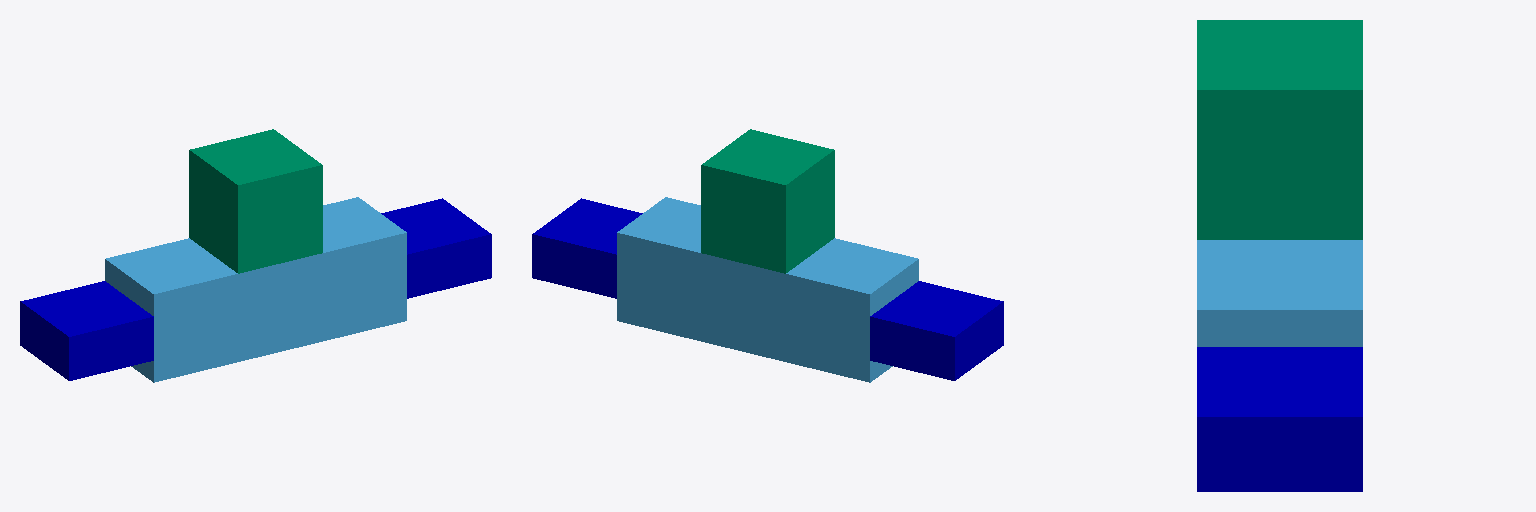
robot.urdf — Chain:
<?xml version="1.0"?>
<robot name="Chain">
  <link name="baselink"/>
  <link name="chainbase">
    <visual>
      <geometry>
        <box size="0.3 0.1 0.1"/>
      </geometry>
    </visual>
    <inertial>
      <mass value="2"/>
      <inertia ixx="0.4" ixy="0.0" ixz="0.0" iyy="0.4" iyz="0.0" izz="0.2"/>
    </inertial>
  </link>
  <link name="fixedlink">
    <visual>
      <geometry>
        <box size="0.1 0.1 0.1"/>
      </geometry>
    </visual>
    <inertial>
      <mass value="1"/>
      <inertia ixx="0.4" ixy="0.0" ixz="0.0" iyy="0.4" iyz="0.0" izz="0.2"/>
    </inertial>
  </link>
  <link name="link1">
    <visual>
			<origin rpy="0 0 0" xyz="0.05 0.0 0"/>
      <geometry>
        <box size="0.1 .10 0.05"/>
      </geometry>
      <material name="blue">
        <color rgba="0 0 0.8 1"/>
      </material>
    </visual>
    <inertial>
			<origin rpy="0 0 0" xyz="0.05 0.0 0"/>
      <mass value="1"/>
      <inertia ixx="0.4" ixy="0.0" ixz="0.0" iyy="0.4" iyz="0.0" izz="0.2"/>
    </inertial>
  </link>
  <link name="link2">
    <visual>
			<origin rpy="0 0 0" xyz="-0.05 0.0 0"/>
      <geometry>
        <box size="0.1 .10 0.05"/>
      </geometry>
      <material name="blue">
        <color rgba="0 0 0.8 1"/>
      </material>
    </visual>
    <inertial>
			<origin rpy="0 0 0" xyz="-0.05 0.0 0"/>
      <mass value="1"/>
      <inertia ixx="0.4" ixy="0.0" ixz="0.0" iyy="0.4" iyz="0.0" izz="0.2"/>
    </inertial>
  </link>
	 <!-- Joints -->
  <joint name="basetoroot" type="fixed">
    <parent link="baselink"/>
    <child link="chainbase"/>
    <origin rpy="0 0 0" xyz="0 0 0"/>
  </joint>
  <joint name="roottofixedlink1" type="fixed">
    <parent link="chainbase"/>
    <child link="fixedlink"/>
    <origin rpy="0 0 0" xyz="0.0 0.0 0.1"/>
  </joint>
	<joint name="roottolink1" type="revolute">
    <parent link="chainbase"/>
    <child link="link1"/>
    <origin rpy="0 0 0" xyz="0.15 0.0 0"/>
    <axis xyz="0 -1 0"/>
		<limit effort="30" velocity="5.0" lower="-5" upper="5" />
  </joint>
  <joint name="roottolink2" type="revolute">
    <parent link="chainbase"/>
    <child link="link2"/>
    <origin rpy="0 0 0" xyz="-0.15 0.0 0"/>
    <axis xyz="0 -1 0"/>
		<limit effort="30" velocity="5.0" lower="-5" upper="5" />
  </joint>
</robot>

--- Render facts (derived) ---
The picture shows the robot from 3 angles, left to right: view 1: azimuth 30°, elevation 25°; view 2: azimuth 150°, elevation 25°; view 3: azimuth 270°, elevation 25°; orthographic projection.
Model Chain with 5 links and 4 joints (2 revolute, 2 fixed), rooted at baselink, posed all joints at 0.
Visible links, largest first — view 1: chainbase, fixedlink, link2, link1; view 2: chainbase, fixedlink, link2, link1; view 3: fixedlink, link1, chainbase.
Boxes of the visible links, left/top/right/bottom form: chainbase: left=105, top=197, right=406, bottom=382; fixedlink: left=189, top=129, right=322, bottom=273; link2: left=20, top=281, right=153, bottom=380; link1: left=381, top=198, right=491, bottom=298; chainbase: left=617, top=197, right=918, bottom=382; fixedlink: left=701, top=129, right=834, bottom=273; link2: left=870, top=281, right=1003, bottom=380; link1: left=532, top=198, right=642, bottom=298; fixedlink: left=1197, top=20, right=1362, bottom=239; link1: left=1197, top=347, right=1362, bottom=491; chainbase: left=1197, top=240, right=1362, bottom=346.
Bounding box of the posed robot: 0.5 × 0.1 × 0.2 m (x, y, z).
Geometry: primitives only (box / cylinder / sphere), no mesh files.